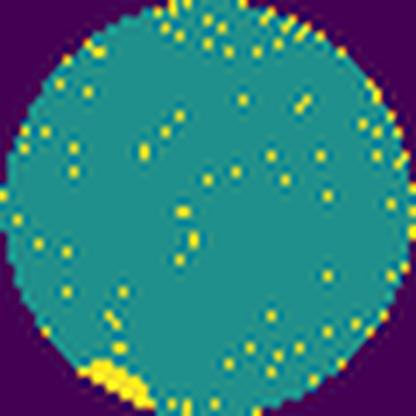Edge-Loc: (74, 353, 158, 416)
